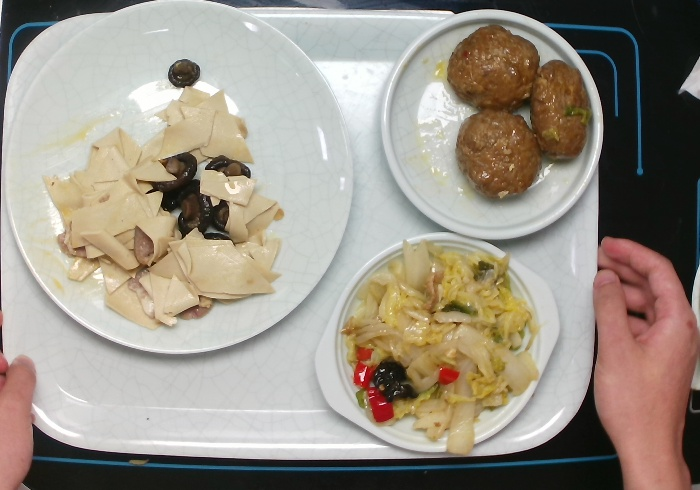JYsf-Da_Yuan_Pan: (3, 1, 365, 365)
JYsf-Shuang_Er_Pan: (314, 230, 560, 458)
JYsf-Xiao_Yuan_Pan: (372, 7, 610, 246)
